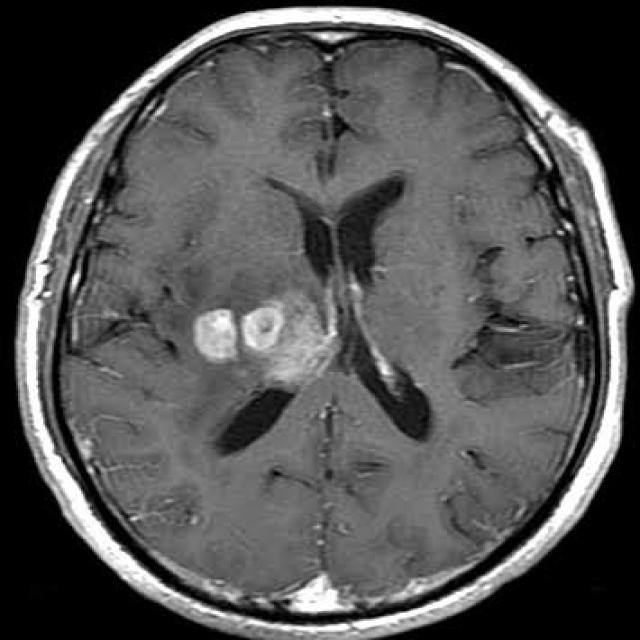Tumor-Cell: (161, 266, 301, 386), (269, 556, 350, 614)
